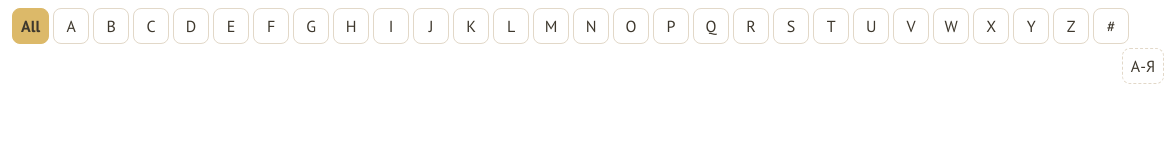
AlphabetFilter › switches between the two scripts by hand
What coordinates should you click on to do the following:
click the button "А-Я"
I would click on:
 (1143, 66)
Its box is [1122,48,1164,84].
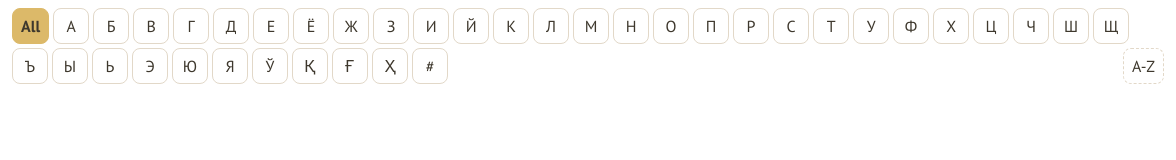
Now the button named "Names starting with Қ" is shown, box [292,48,328,84]
What coordinates should you click on to do the following:
click the button "A-Z"
I would click on:
 (1144, 66)
Its box is [1123,48,1164,84].
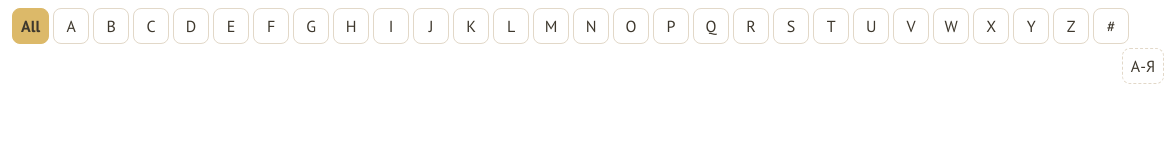
Now the button named "Names starting with Q" is shown, box [693,8,729,44]
